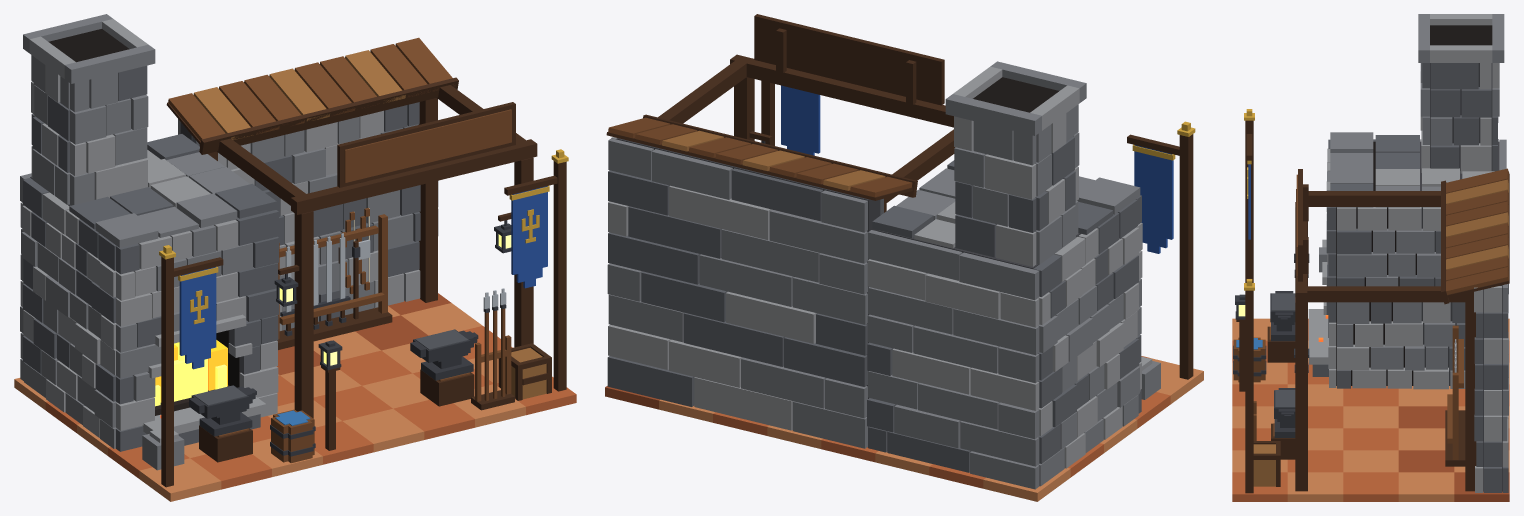
The model's file is Lobby_Blacksmith.glb.
3 views of the same model, side by side, from view 1: azimuth 30°, elevation 25°; view 2: azimuth 150°, elevation 25°; view 3: azimuth 270°, elevation 25° (orthographic). The views are drawn at different scales.
Visible parts, largest first — view 1: Forge_StoneLight, Forge_StoneDark, Forge_StoneMid, Timber_WoodDark, Platform_TerracottaLight, Platform_Terracotta, Chimney_StoneMid, Roof_Wood, BackWall_StoneMid, Chimney_StoneLight, Sign_Wood, BackWall_StoneDark (+32 smaller); view 2: Forge_StoneMid, BackWall_StoneMid, BackWall_StoneDark, Forge_StoneLight, BackWall_StoneLight, Forge_StoneDark, Chimney_StoneMid, Sign_WoodDark, Timber_WoodDark, Chimney_StoneLight, Roof_Wood, Platform_TerracottaLight (+10 smaller); view 3: Platform_TerracottaLight, Forge_StoneMid, Forge_StoneLight, Timber_WoodDark, Platform_Terracotta, Forge_StoneDark, Roof_Wood, Chimney_StoneDark, Chimney_StoneLight, BackWall_StoneDark, Platform_TerracottaDark, BackWall_StoneLight (+25 smaller).
Boxes of the visible parts, bbox=[...] form: Forge_StoneLight: bbox=[20, 150, 278, 437]; Forge_StoneDark: bbox=[23, 134, 278, 451]; Forge_StoneMid: bbox=[20, 152, 252, 448]; Timber_WoodDark: bbox=[199, 85, 537, 418]; Platform_TerracottaLight: bbox=[14, 303, 525, 501]; Platform_Terracotta: bbox=[45, 326, 576, 489]; Chimney_StoneMid: bbox=[23, 14, 155, 205]; Roof_Wood: bbox=[168, 37, 455, 141]; BackWall_StoneMid: bbox=[178, 116, 413, 330]; Chimney_StoneLight: bbox=[29, 19, 147, 199]; Sign_Wood: bbox=[344, 109, 511, 182]; BackWall_StoneDark: bbox=[192, 102, 438, 321]; Forge_StoneMid: bbox=[867, 168, 1141, 489]; BackWall_StoneMid: bbox=[607, 138, 867, 448]; BackWall_StoneDark: bbox=[607, 168, 883, 406]; Forge_StoneLight: bbox=[867, 201, 1142, 468]; BackWall_StoneLight: bbox=[608, 137, 816, 430]; Forge_StoneDark: bbox=[867, 160, 1141, 472]; Chimney_StoneMid: bbox=[945, 61, 1086, 264]; Sign_WoodDark: bbox=[754, 14, 944, 105]; Timber_WoodDark: bbox=[658, 54, 955, 212]; Chimney_StoneLight: bbox=[953, 66, 1079, 266]; Roof_Wood: bbox=[608, 117, 912, 197]; Platform_TerracottaLight: bbox=[659, 358, 1203, 501]; Platform_TerracottaLight: bbox=[1232, 318, 1509, 501]; Forge_StoneMid: bbox=[1319, 132, 1506, 370]; Forge_StoneLight: bbox=[1308, 139, 1494, 389]; Timber_WoodDark: bbox=[1295, 189, 1476, 491]; Platform_Terracotta: bbox=[1232, 318, 1509, 501]; Forge_StoneDark: bbox=[1312, 135, 1498, 388]; Roof_Wood: bbox=[1446, 168, 1508, 294]; Chimney_StoneDark: bbox=[1422, 63, 1498, 171]; Chimney_StoneLight: bbox=[1420, 14, 1499, 173]; BackWall_StoneDark: bbox=[1474, 294, 1508, 492]; Platform_TerracottaDark: bbox=[1398, 406, 1509, 501]; BackWall_StoneLight: bbox=[1474, 286, 1508, 492].
Size of the model in its own units: 6 by 5 by 4.
